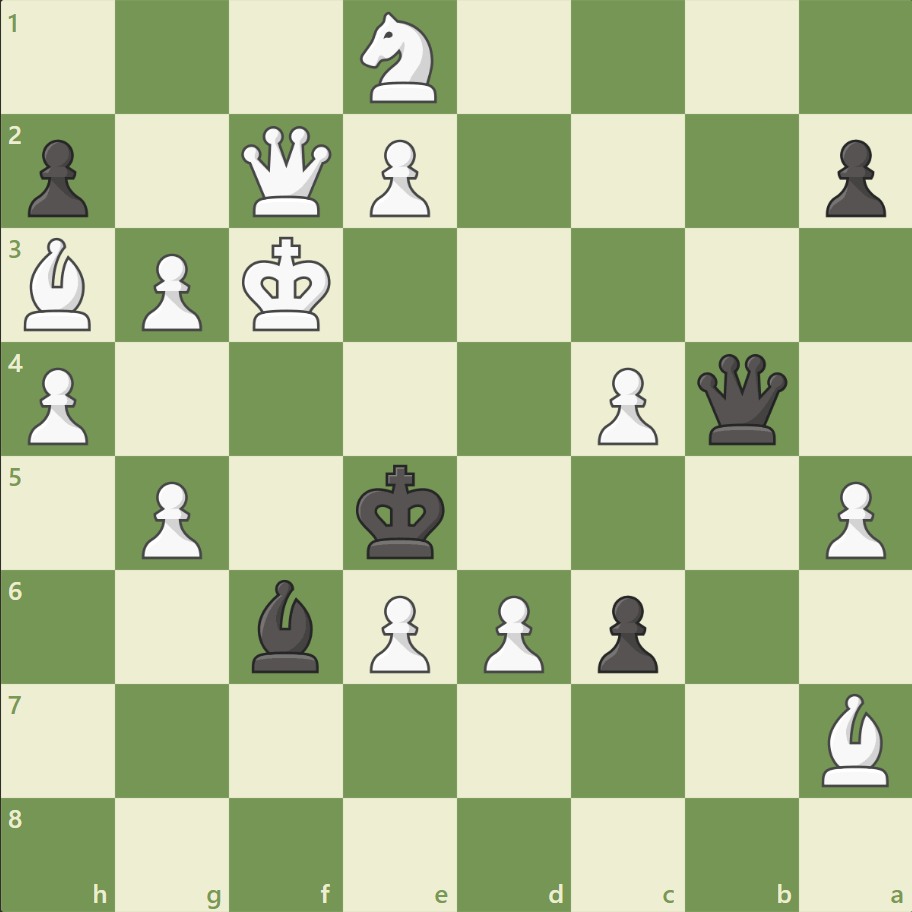B: (812, 687, 896, 790), (17, 233, 101, 336)
K: (238, 231, 338, 339)
N: (351, 7, 449, 110)
P: (474, 586, 549, 677), (133, 473, 208, 564), (20, 359, 95, 450), (133, 246, 208, 337), (361, 586, 435, 677), (815, 473, 889, 564), (588, 359, 662, 450), (361, 132, 435, 223)
Q: (237, 122, 336, 222)
b: (244, 574, 328, 676)
k: (351, 458, 451, 566)
p: (20, 132, 95, 223), (588, 586, 662, 677), (815, 132, 889, 223)
q: (691, 349, 790, 449)
